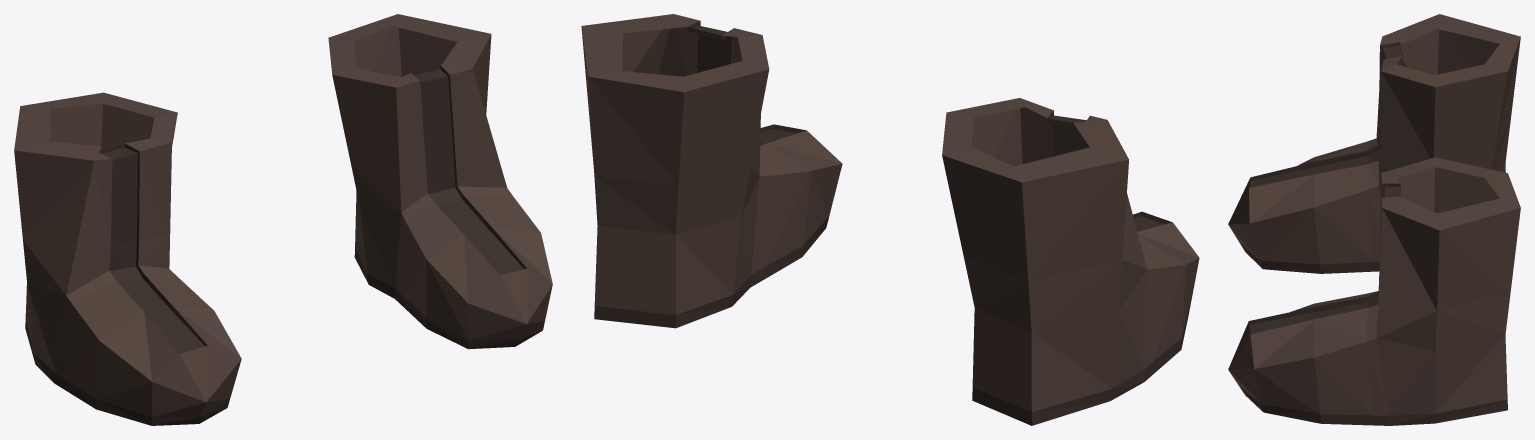
File: FemaleArcherFeet.dae
3 views of the same model, side by side, from view 1: azimuth 30°, elevation 25°; view 2: azimuth 150°, elevation 25°; view 3: azimuth 270°, elevation 25° (orthographic). The views are drawn at different scales.
Parts seen in each view (by area): view 1: FemaleFeet; view 2: FemaleFeet; view 3: FemaleFeet.
Part boxes in pixels (x1=…): FemaleFeet: x1=14, y1=14, x2=552, y2=425; FemaleFeet: x1=581, y1=14, x2=1199, y2=425; FemaleFeet: x1=1228, y1=14, x2=1520, y2=425.
Bounding box in the file's own units: 2.74 × 1.56 × 1.2.
